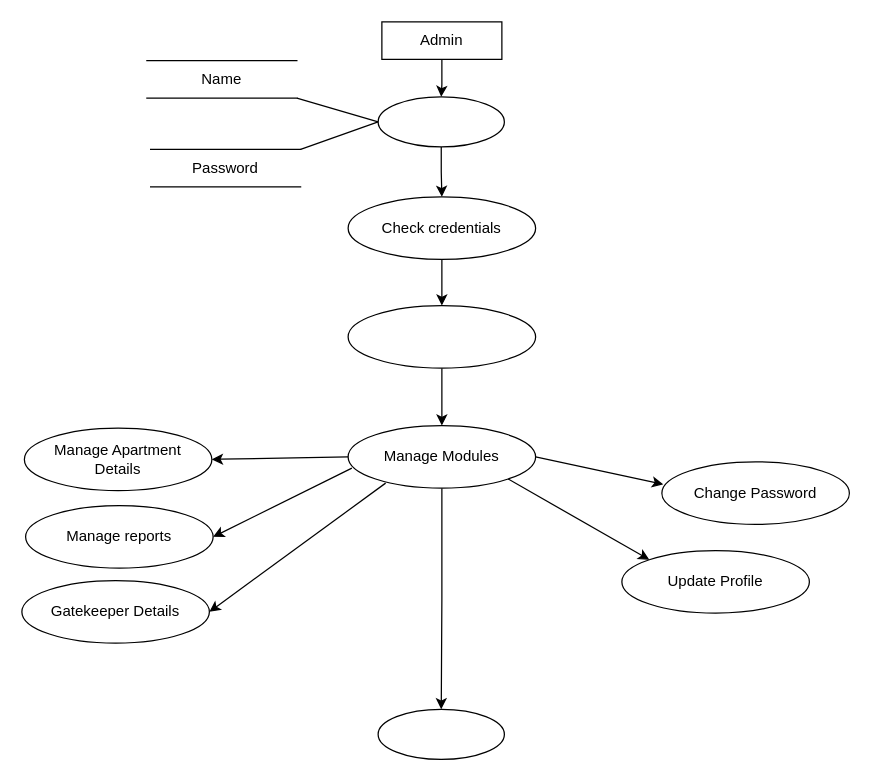
The diagram is 871 pixels wide and 781 high, and some of its shapes have lost their labels. Here are the shapes that lost their labels. From the top down, the centre of each, then its label:
At point 440,121: "Log in".
At point 441,336: "Check Role of Access".
At point 440,733: "Log Out".
